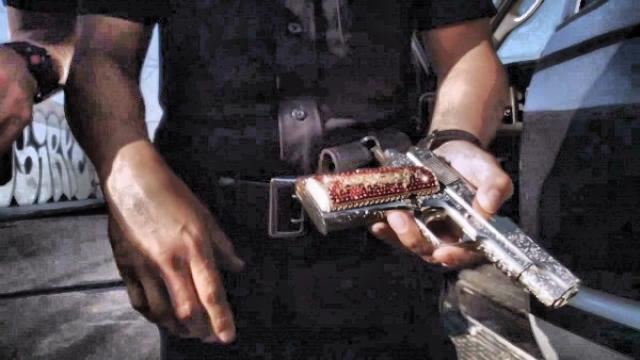pistol: (288, 134, 588, 320)
